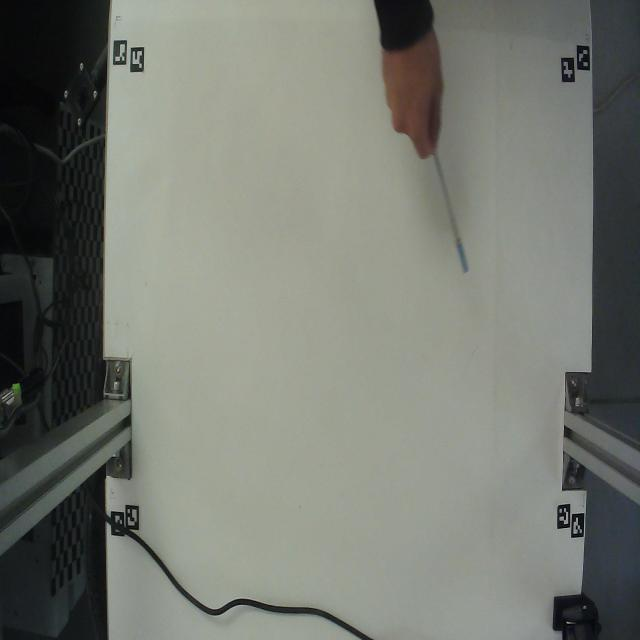NoPres: (424, 153, 481, 294)
